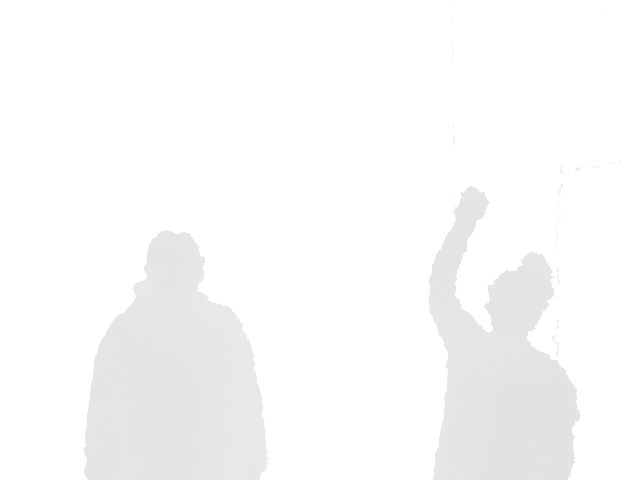hand: (454, 186, 489, 227)
head: (487, 250, 549, 342), (145, 227, 205, 305)
person: (80, 228, 271, 480), (427, 186, 583, 480)
